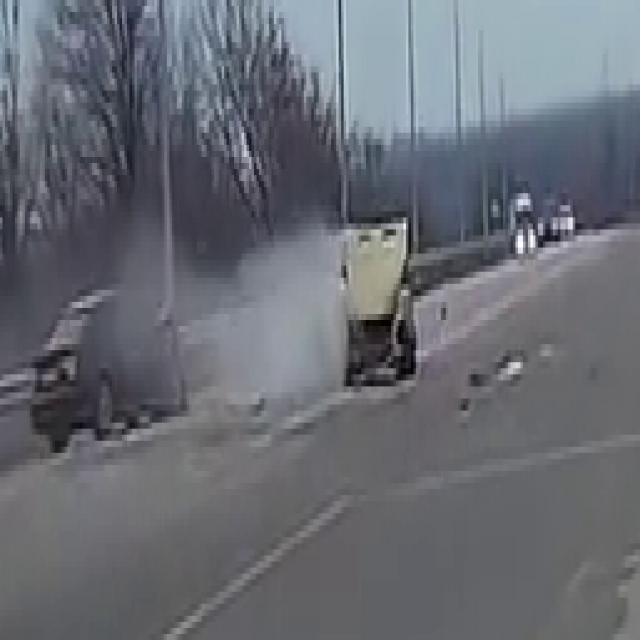accident: (16, 229, 204, 470), (301, 188, 431, 376)
